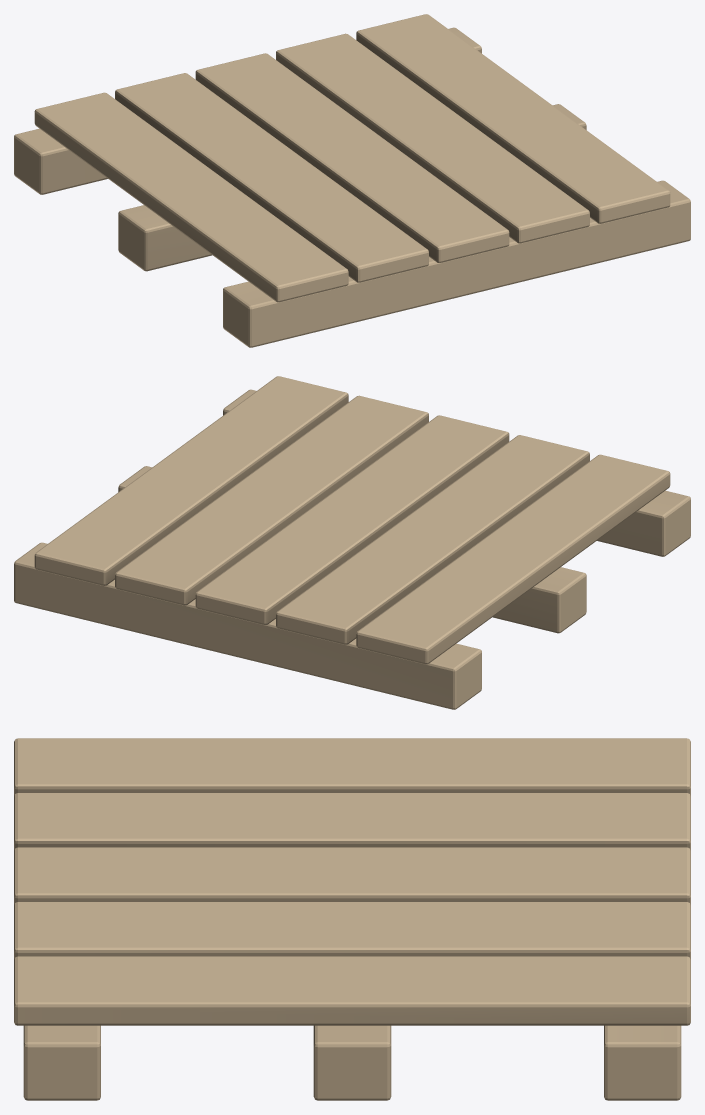
File: pallet.glb
3 views of the same model, one above another, from view 1: azimuth 30°, elevation 25°; view 2: azimuth 150°, elevation 25°; view 3: azimuth 270°, elevation 25° (orthographic). The views are drawn at different scales.
Visible parts, largest first — view 1: runner; view 2: runner; view 3: runner.
Boxes of the visible parts, x1=… form: runner: x1=14, y1=14, x2=690, y2=347; runner: x1=14, y1=376, x2=690, y2=709; runner: x1=14, y1=738, x2=690, y2=1100.
Size of the model in its own units: 1.1 by 0.14 by 1.05.
